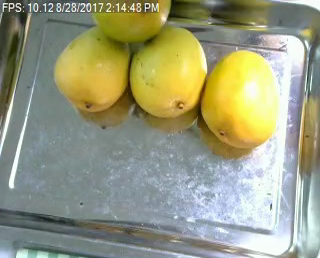Mango: (201, 51, 282, 150), (129, 28, 207, 119), (52, 21, 130, 111), (87, 0, 172, 42)
